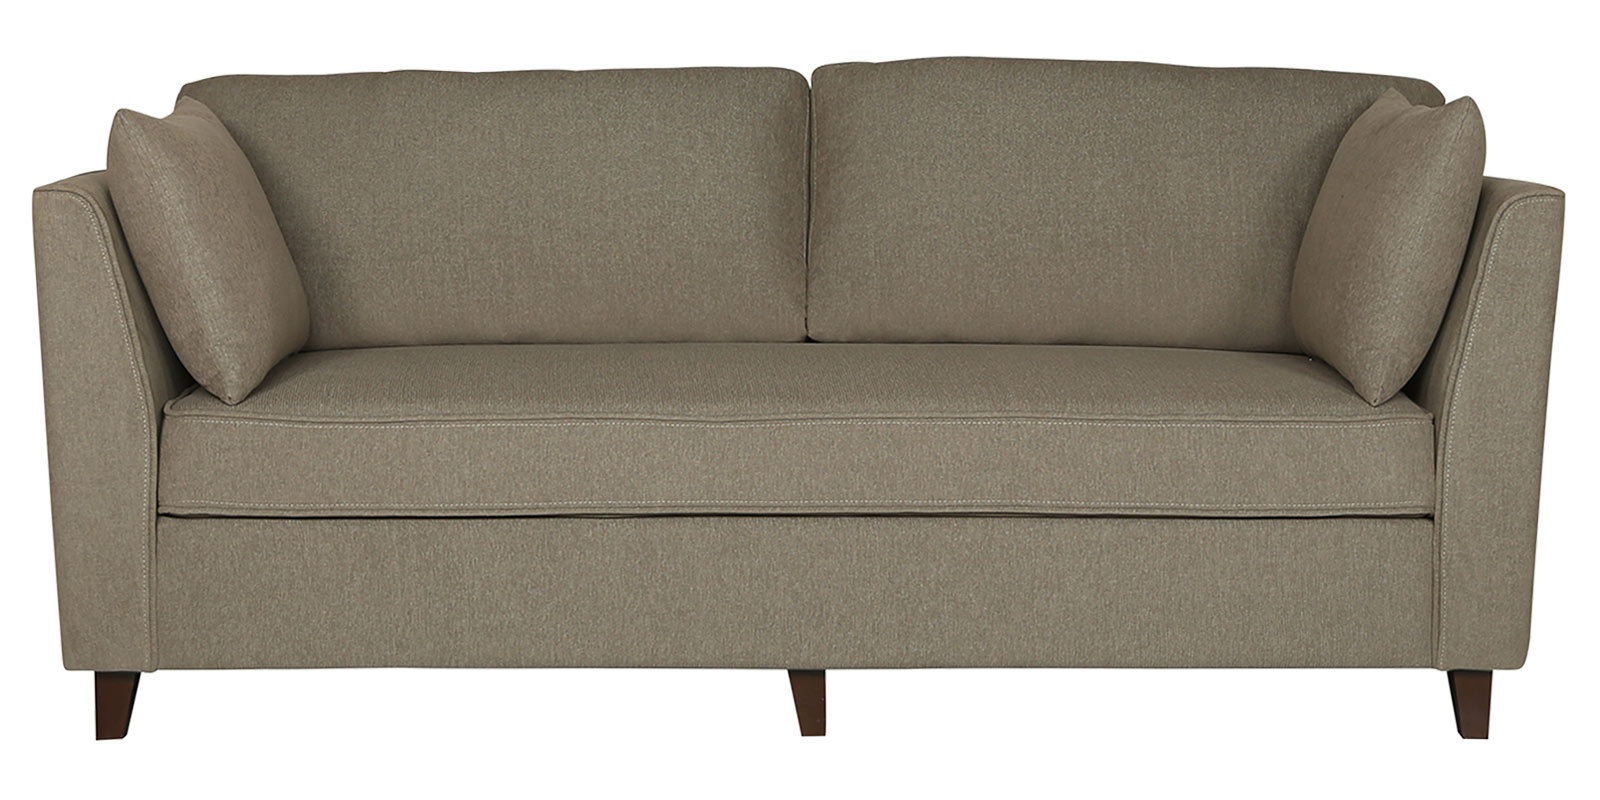Miranda Three Seater Sofa in Sandy Brown Colour by CasaCraft: (36, 57, 1566, 739)
